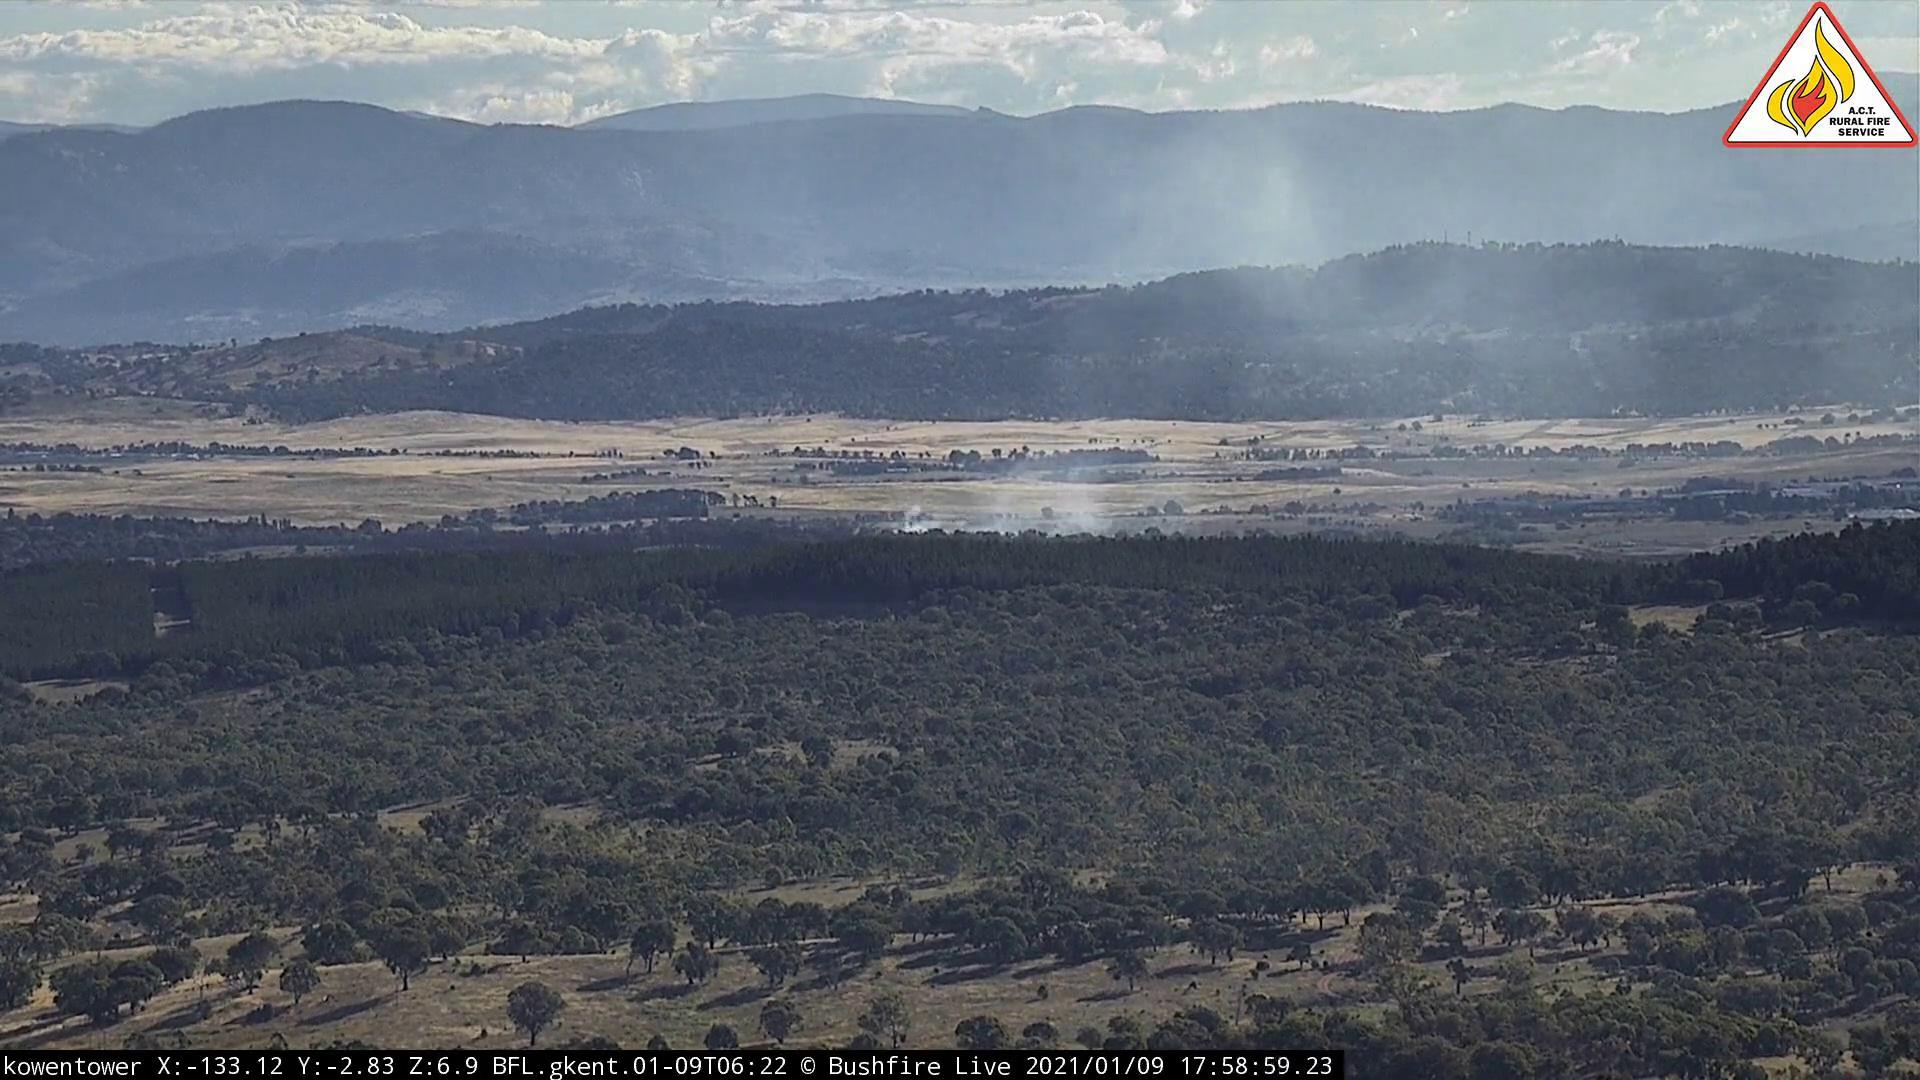Smoke: (866, 146, 1465, 563)
